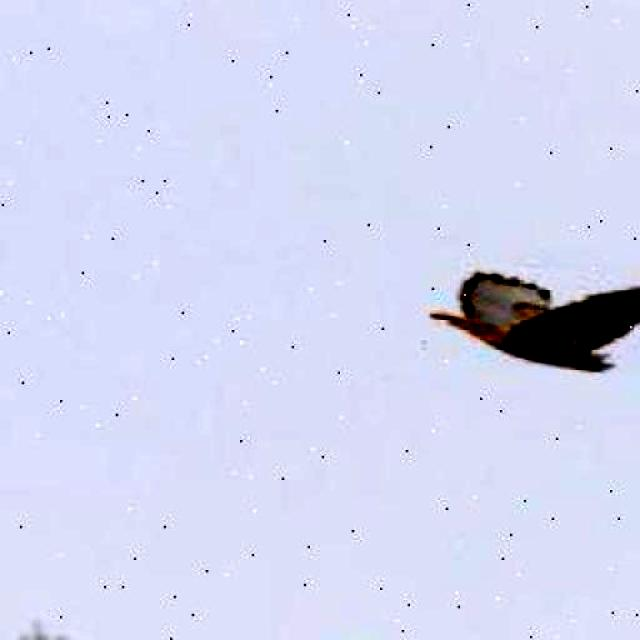airplane: (422, 255, 640, 382)
